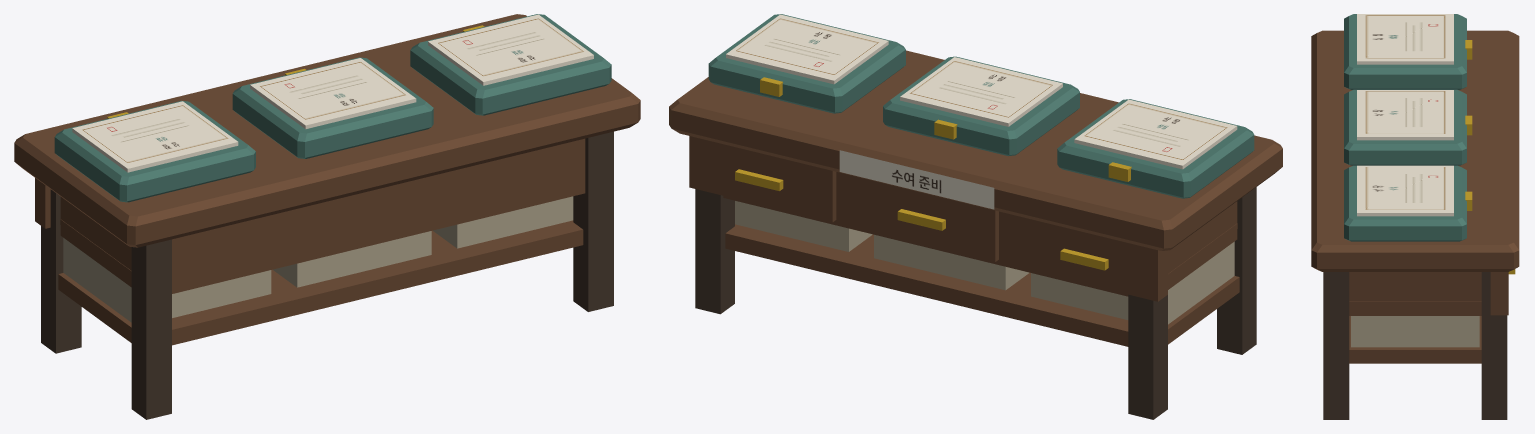
Rendered from A05_Presentation_Table.fbx.
3 views of the same model, side by side, from view 1: azimuth 30°, elevation 25°; view 2: azimuth 150°, elevation 25°; view 3: azimuth 270°, elevation 25° (orthographic). The views are drawn at different scales.
Visible parts, largest first — view 1: Structure, Presentation_Cases, Storage; view 2: Structure, Presentation_Cases, Storage, Title; view 3: Structure, Presentation_Cases, Storage.
Part boxes in pixels (x1,y1,x2,y2): Structure: [14, 14, 640, 419]; Presentation_Cases: [54, 14, 611, 202]; Storage: [60, 196, 573, 322]; Structure: [669, 50, 1282, 419]; Presentation_Cases: [708, 14, 1254, 198]; Storage: [735, 201, 1237, 324]; Title: [839, 150, 994, 209]; Structure: [1311, 30, 1519, 419]; Presentation_Cases: [1344, 14, 1472, 241]; Storage: [1349, 301, 1481, 347].
Size of the model in its own units: 2.6 by 1.15 by 1.05.
7 materials, 1 textured.
